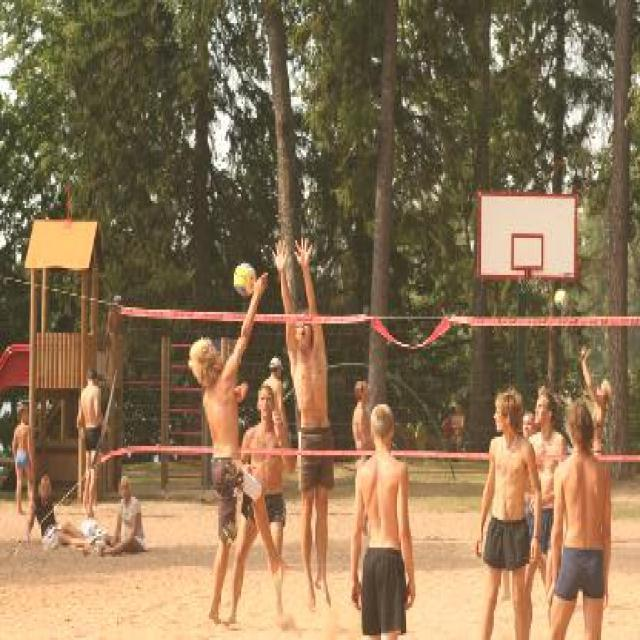volleyball: (233, 264, 256, 296)
